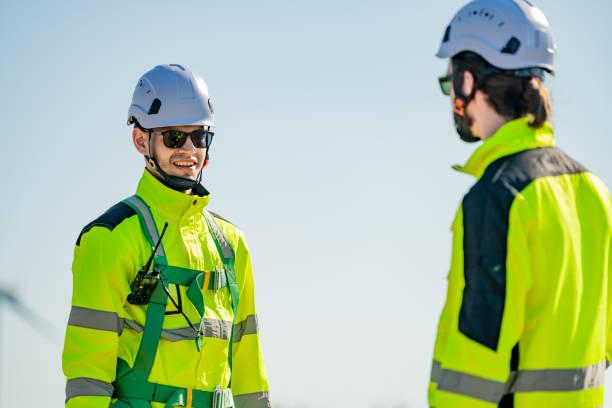goggle: (145, 128, 220, 153), (432, 73, 471, 94)
helmet: (431, 2, 569, 74), (125, 54, 224, 130)
vest: (427, 107, 612, 408), (60, 170, 280, 408)
